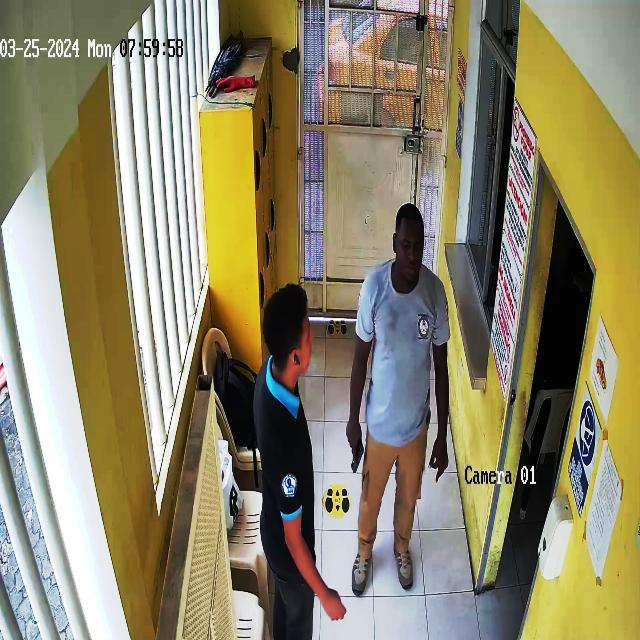Gun: (340, 419, 372, 473)
